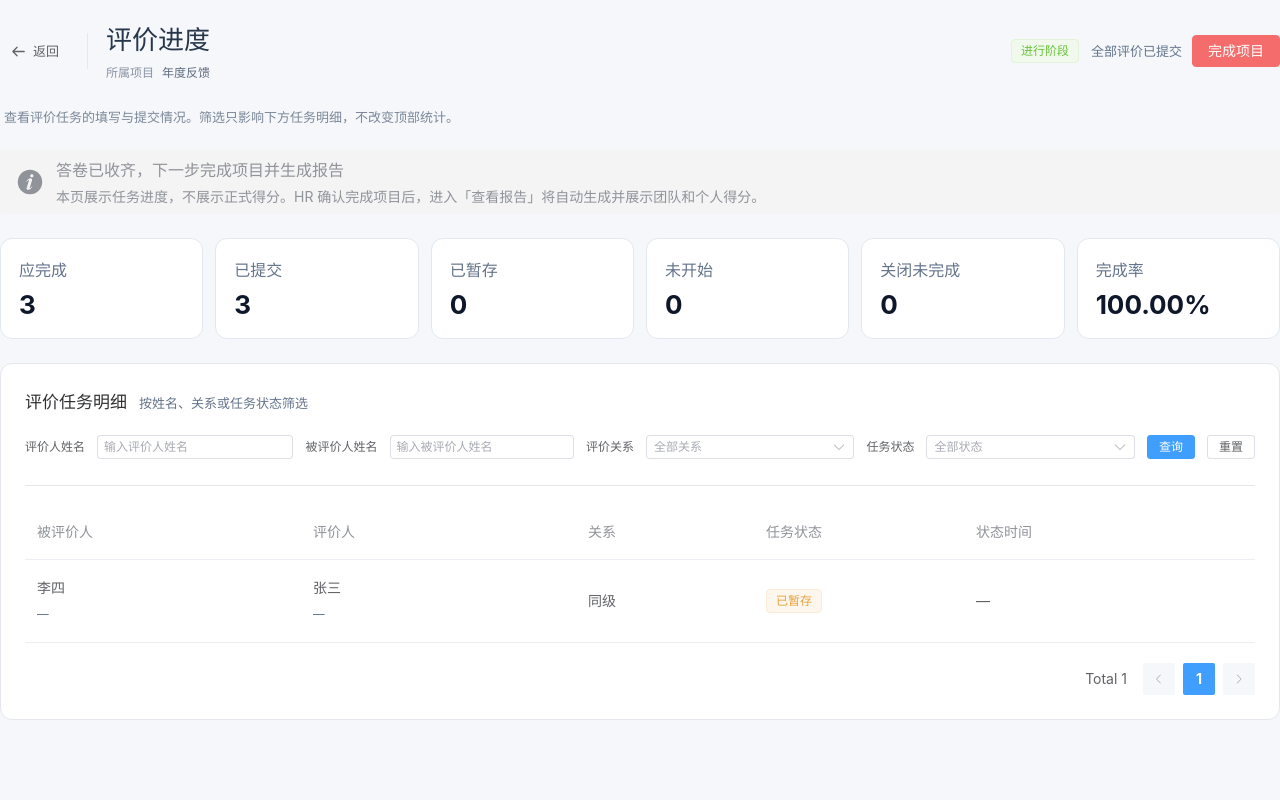
Test: HR项目评价进度页 › 全部提交后启用完成入口，预检后仍需填写原因和确认
The width and height of the screenshot is (1280, 800).
Click the button "完成项目".
click(1236, 51)  # box [1192, 35, 1279, 67]
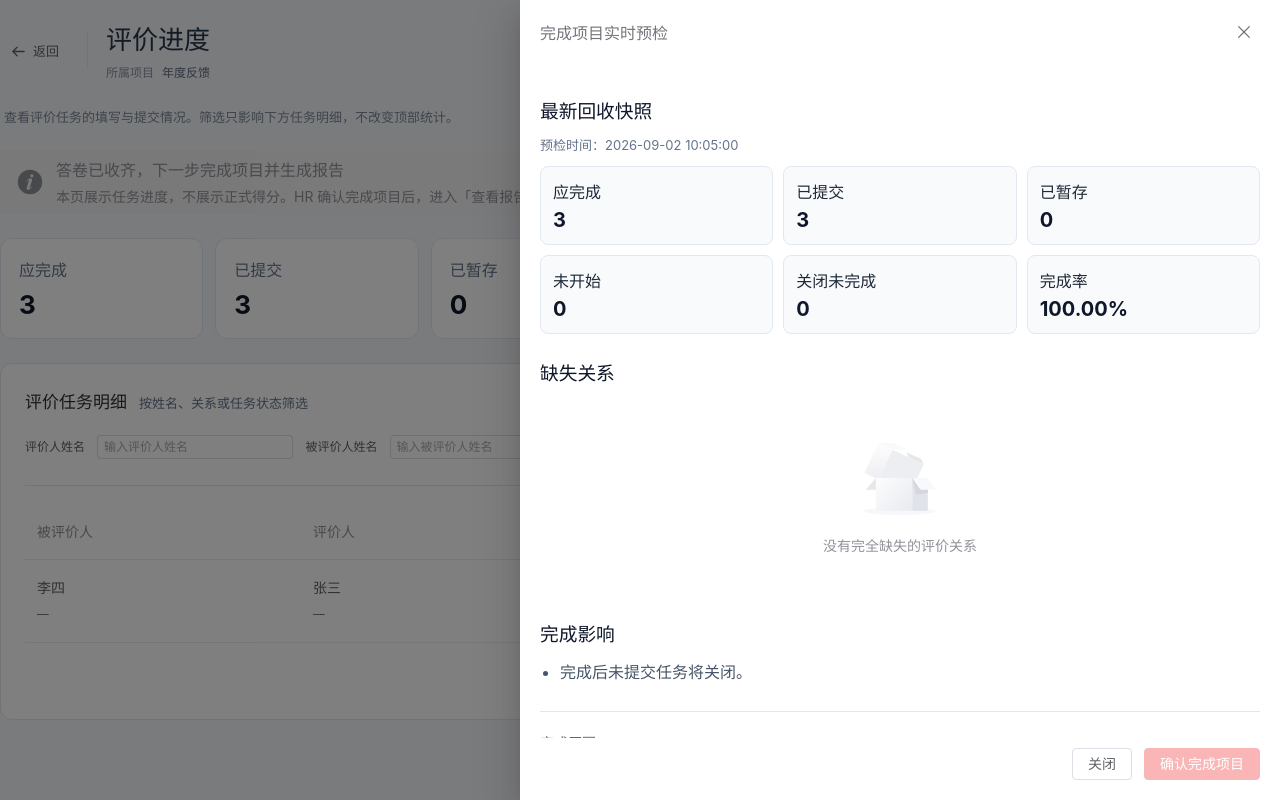
Expected: the text "完成项目实时预检" is shown, [540, 23, 668, 43]
Expected: the button "确认完成项目" is disabled, [1144, 748, 1260, 780]
